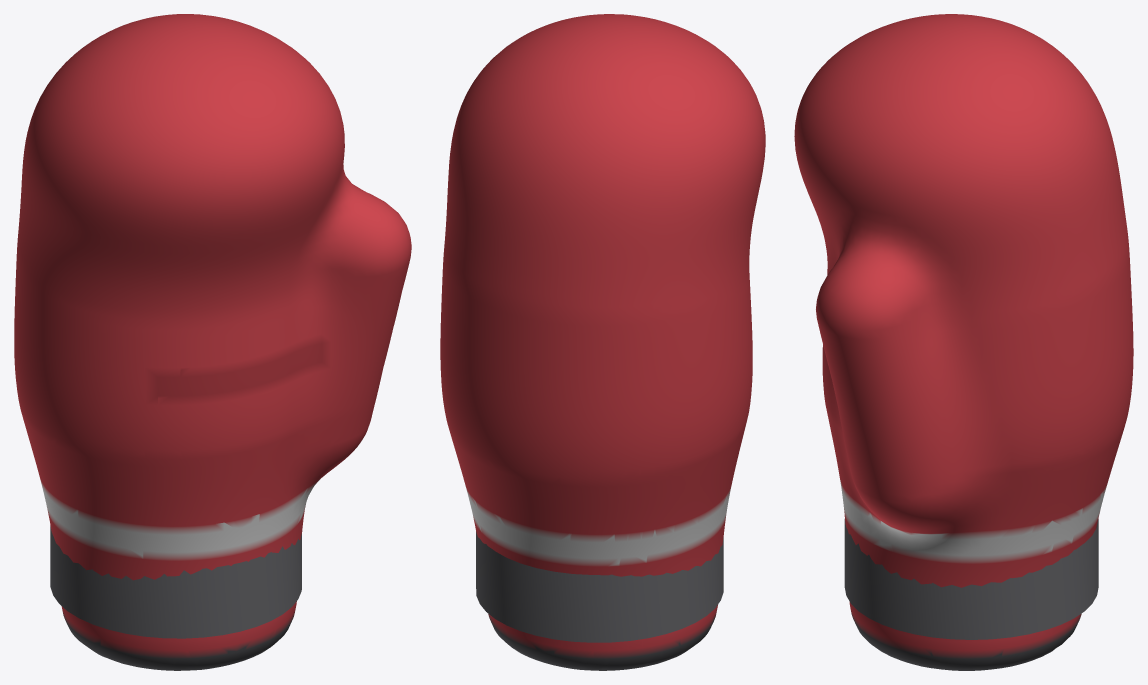
File: boxing_glove_r.glb
3 renders of one model, left to right at view 1: azimuth 30°, elevation 25°; view 2: azimuth 150°, elevation 25°; view 3: azimuth 270°, elevation 25°, orthographic.
Visible parts, largest first — view 1: Glove; view 2: Glove; view 3: Glove.
Part boxes in pixels (left/top/right/bottom): Glove: left=14, top=14, right=411, bottom=670; Glove: left=440, top=14, right=765, bottom=670; Glove: left=794, top=14, right=1133, bottom=670.
Size of the model in its own units: 0.143 by 0.264 by 0.1349.
